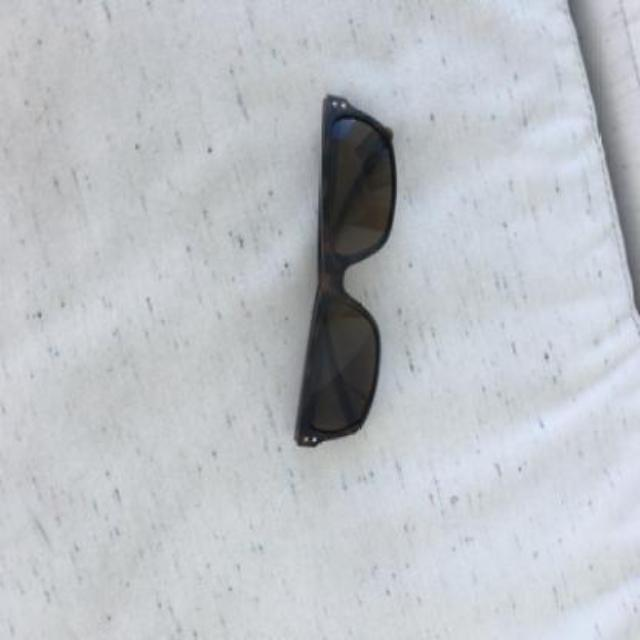sunglasses: (293, 92, 397, 444)
